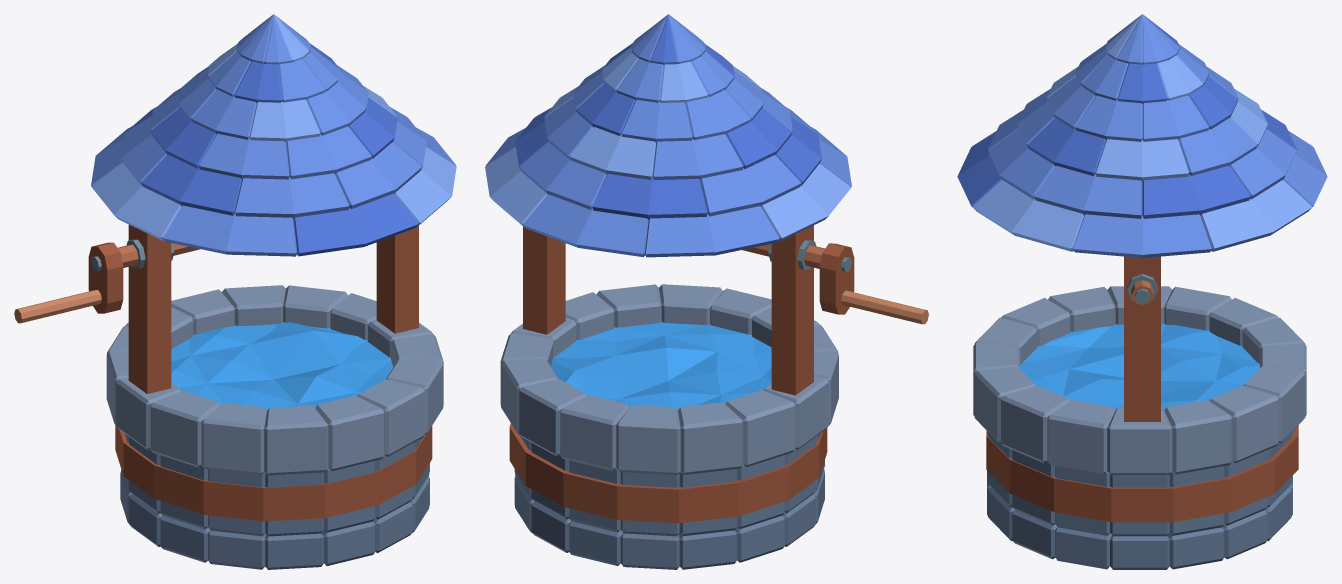
Rendered from Well.fbx.
3 views of the same model, side by side, from view 1: azimuth 30°, elevation 25°; view 2: azimuth 150°, elevation 25°; view 3: azimuth 270°, elevation 25° (orthographic).
Parts seen in each view (by area): view 1: Well; view 2: Well; view 3: Well.
Boxes of the visible parts, x1,y1,x2,y2 form: Well: (14,14,456,569); Well: (485,14,928,569); Well: (957,14,1327,569).
Size of the model in its own units: 2.6 by 2 by 2.93.
